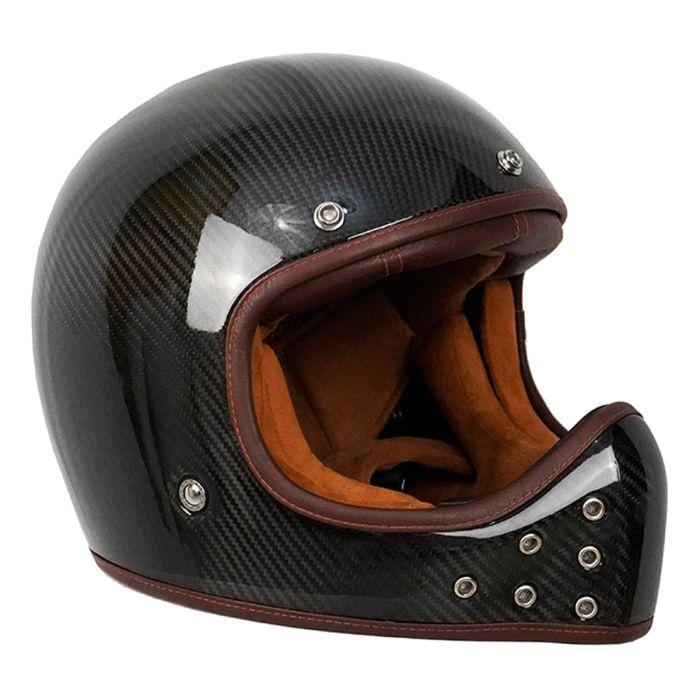Helmet: (31, 52, 671, 650)
